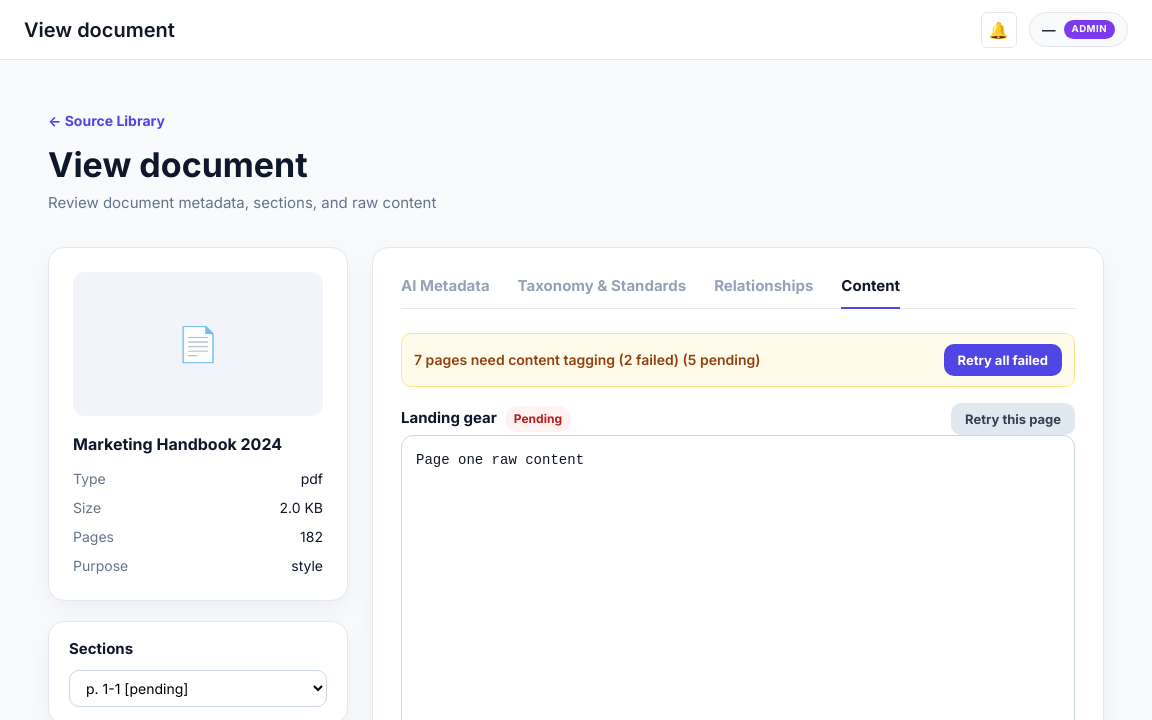
Scenario: MetadataEditorPage › Retry all failed starts a background job and shows live progress
Click the button "Retry all failed": click(1003, 360) [944,344,1062,376]
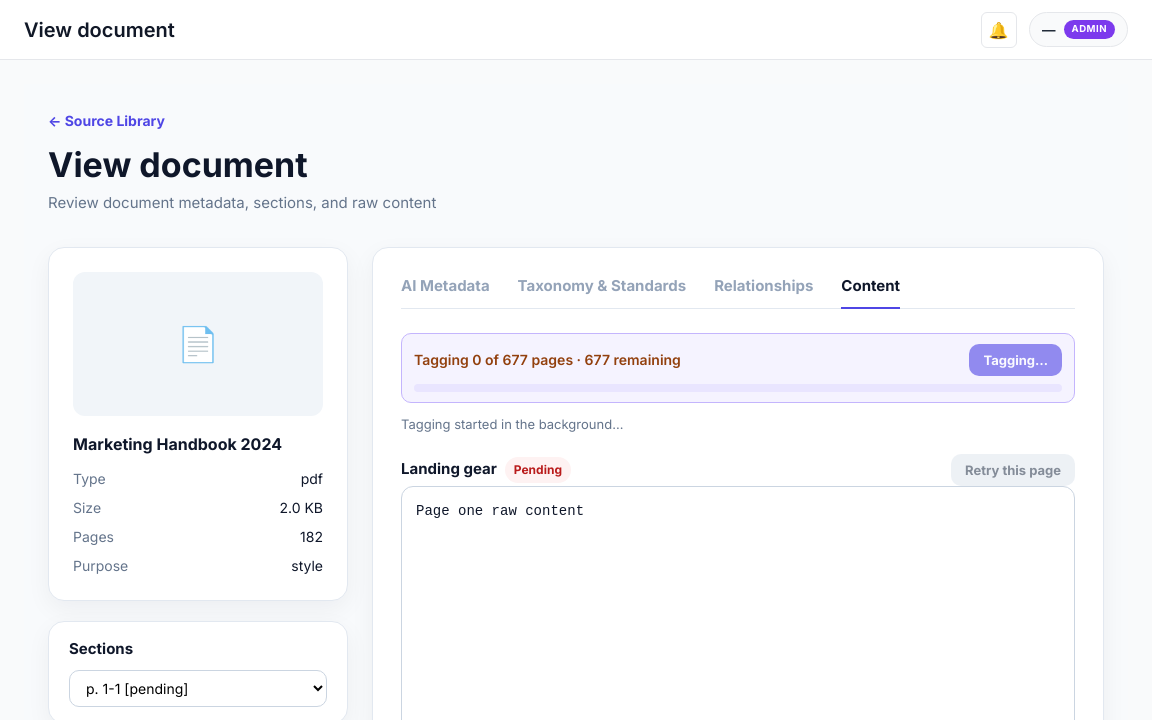
expect the text "Tagging 0 of 677 pages · 677 remaining" is shown: met, box [414,349,681,370]
expect the button "Tagging…" is disabled: met, box [969,344,1062,376]
expect the text "Tagging started in the background…" is shown: met, box [401,416,623,432]
